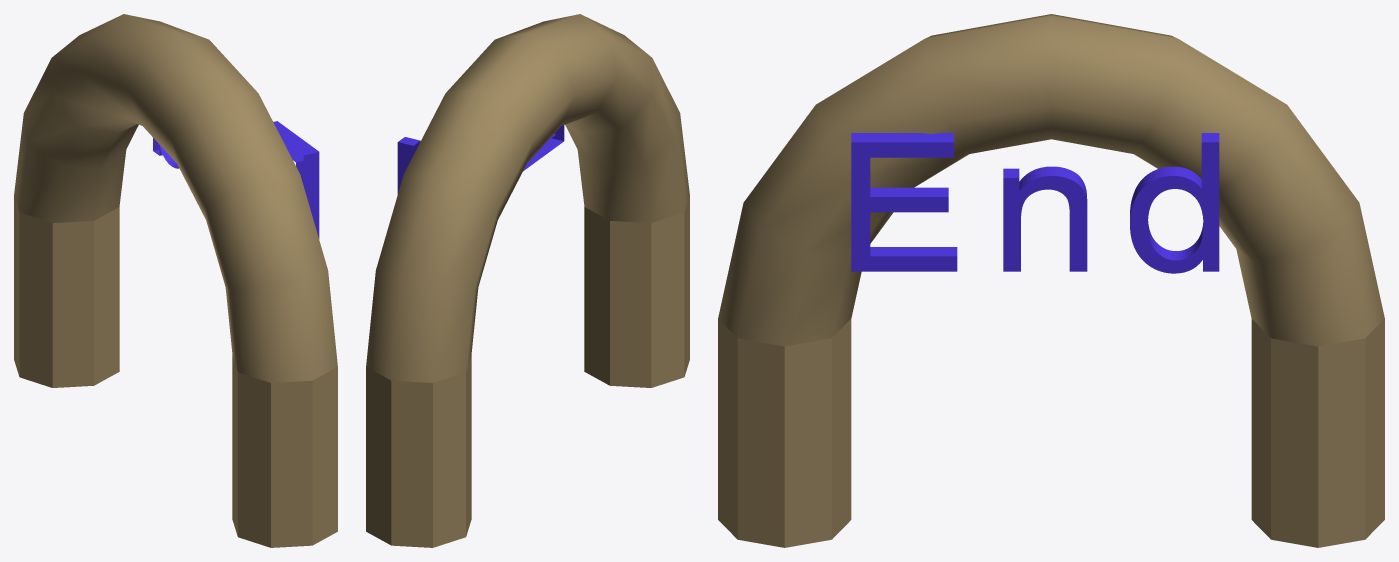
Rendered from GoalObject.fbx.
The picture shows the model from 3 angles, left to right: view 1: azimuth 30°, elevation 25°; view 2: azimuth 150°, elevation 25°; view 3: azimuth 270°, elevation 25°; orthographic projection. The views are drawn at different scales.
Parts seen in each view (by area): view 1: Torus001; view 2: Torus001; view 3: Torus001.
Part boxes in pixels (x1,y1,x2,y2): Torus001: (14,14,337,547); Torus001: (366,14,689,547); Torus001: (718,14,1384,547).
Bounding box in the file's own units: 27.17 × 98.43 × 118.
